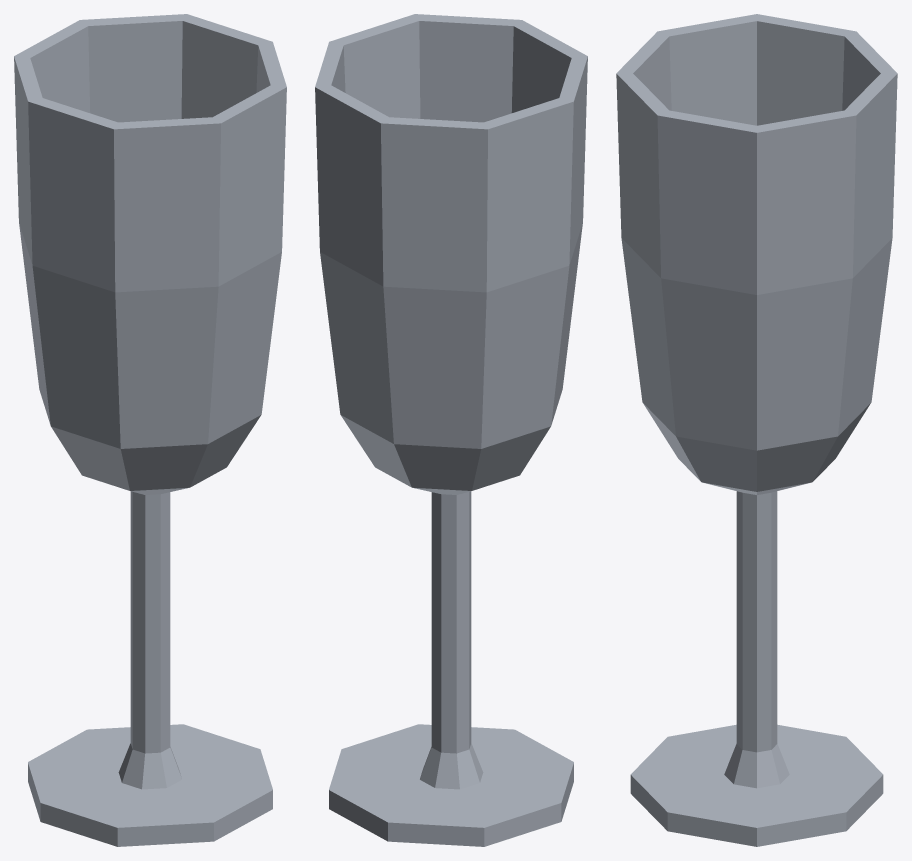
Rendered from Wineglass1_C1.fbx.
3 renders of one model, left to right at view 1: azimuth 30°, elevation 25°; view 2: azimuth 150°, elevation 25°; view 3: azimuth 270°, elevation 25°, orthographic.
Parts seen in each view (by area): view 1: Wineglass1_C1; view 2: Wineglass1_C1; view 3: Wineglass1_C1.
Part boxes in pixels (<box>): Wineglass1_C1: <box>14,14,286,846</box>; Wineglass1_C1: <box>315,14,587,846</box>; Wineglass1_C1: <box>616,14,897,846</box>.
Size of the model in its own units: 6.62 by 18.71 by 6.62.
